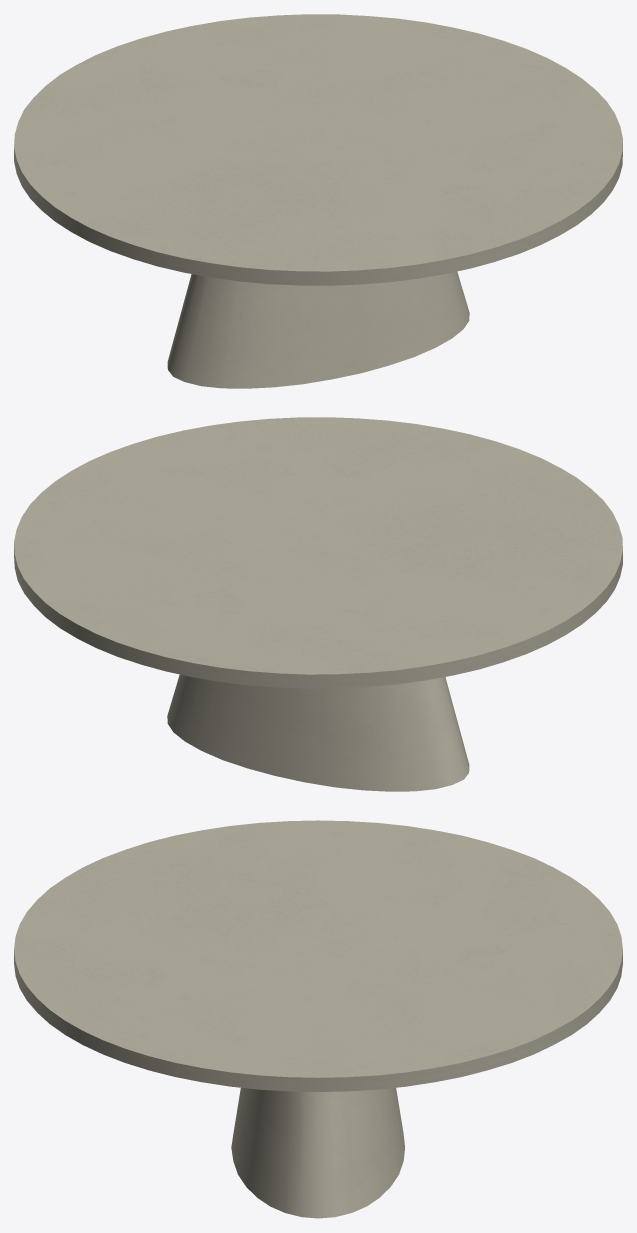
File: silk_round_standard_eqone.glb
3 renders of one model, top to bottom at view 1: azimuth 30°, elevation 25°; view 2: azimuth 150°, elevation 25°; view 3: azimuth 270°, elevation 25°, orthographic.
Parts seen in each view (by area): view 1: silk_roundstandard_eqone; view 2: silk_roundstandard_eqone; view 3: silk_roundstandard_eqone.
Part boxes in pixels (bbox=[...]): silk_roundstandard_eqone: bbox=[14, 14, 622, 388]; silk_roundstandard_eqone: bbox=[14, 417, 622, 791]; silk_roundstandard_eqone: bbox=[14, 820, 622, 1218].
Bounding box in the file's own units: 6.97 × 2.51 × 6.97.
Materials: 1 (1 with a texture image).
